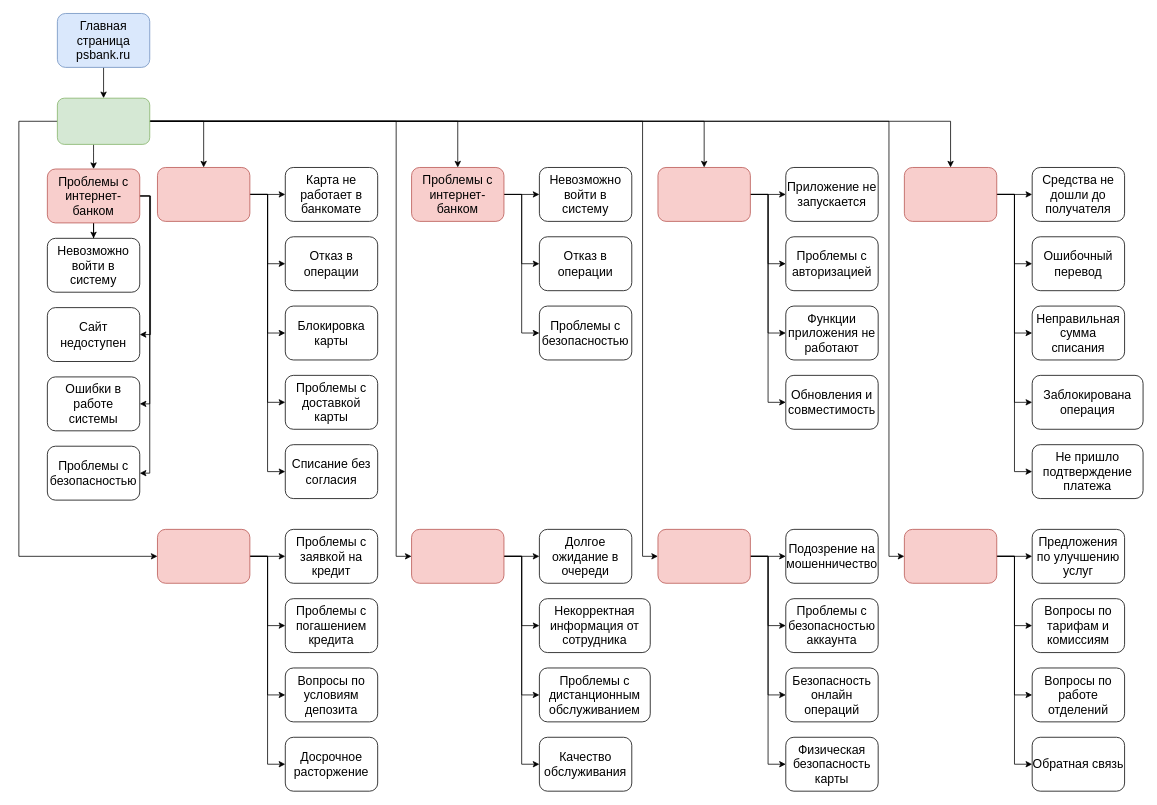
The diagram is 1157 pixels wide and 805 high, and some of its shapes have lost their labels. Each missing label, with the box of its shape:
Вопросы по безопасности: (657, 529, 750, 583)
Вопросы по кредитам и депозитам: (157, 529, 250, 583)
Общие вопросы и предложения: (904, 529, 997, 583)
Проблемы с банковской картой: (157, 167, 250, 221)
Проблемы с мобильным приложением: (657, 167, 750, 221)
Проблемы с обслуживанием: (411, 529, 504, 583)
Проблемы с платежами и переводами: (904, 167, 997, 221)
Техническая поддержка: (57, 97, 150, 144)
